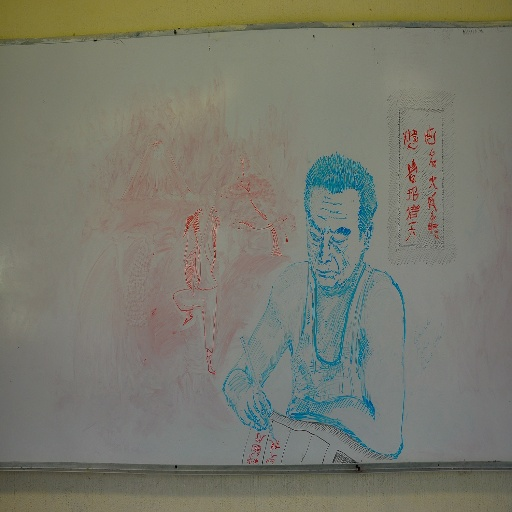hand: (235, 382, 269, 429), (284, 395, 315, 420)
